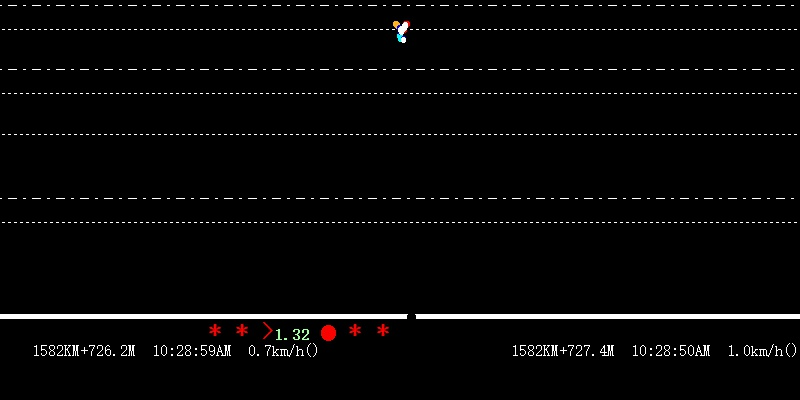circle: (318, 322, 340, 344)
face_2: (393, 16, 409, 35)
star: (205, 319, 222, 339), (375, 323, 392, 338), (233, 322, 249, 337), (348, 322, 362, 339)
